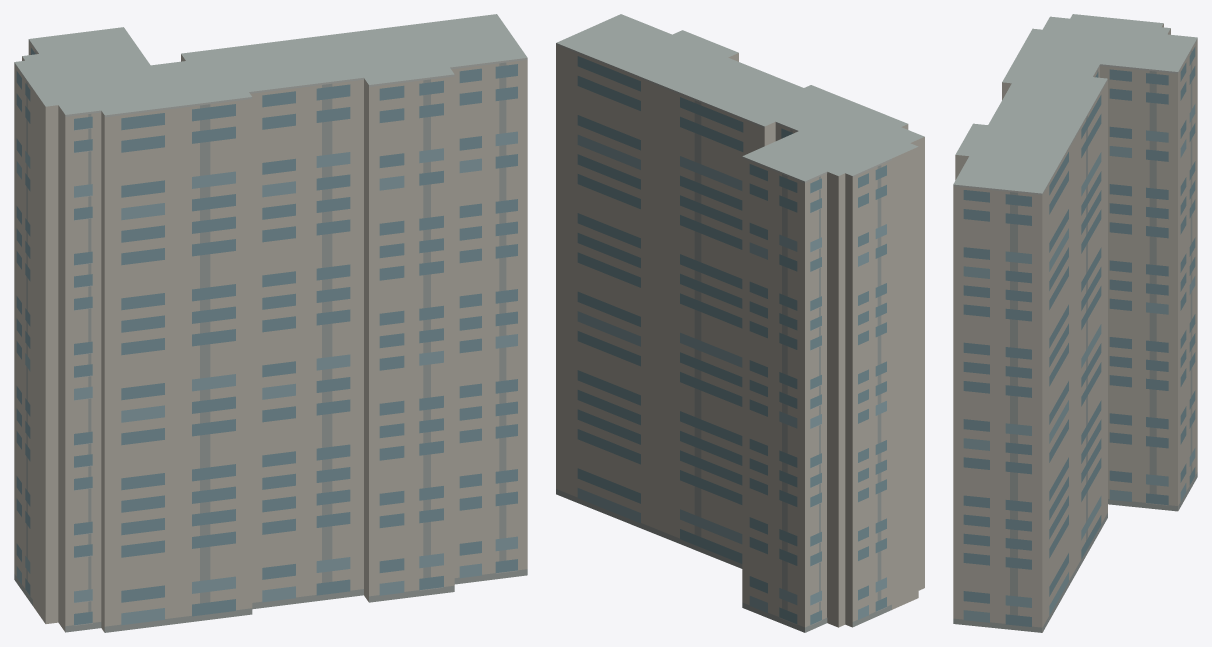
Rendered from residential-633ae4e0-805c-4355-b118-64e35f258c58.glb.
The picture shows the model from 3 angles, left to right: view 1: azimuth 30°, elevation 25°; view 2: azimuth 150°, elevation 25°; view 3: azimuth 270°, elevation 25°; orthographic projection. The views are drawn at different scales.
Visible parts, largest first — view 1: residential-633ae4e0-805c-4355-b118-64e35f258c58.tmp; view 2: residential-633ae4e0-805c-4355-b118-64e35f258c58.tmp; view 3: residential-633ae4e0-805c-4355-b118-64e35f258c58.tmp.
Part boxes in pixels (x1,y1,x2,y2): residential-633ae4e0-805c-4355-b118-64e35f258c58.tmp: [14, 14, 527, 632]; residential-633ae4e0-805c-4355-b118-64e35f258c58.tmp: [556, 14, 924, 632]; residential-633ae4e0-805c-4355-b118-64e35f258c58.tmp: [953, 14, 1197, 632].
Bounding box in the file's own units: 55.24 × 63 × 31.79.
